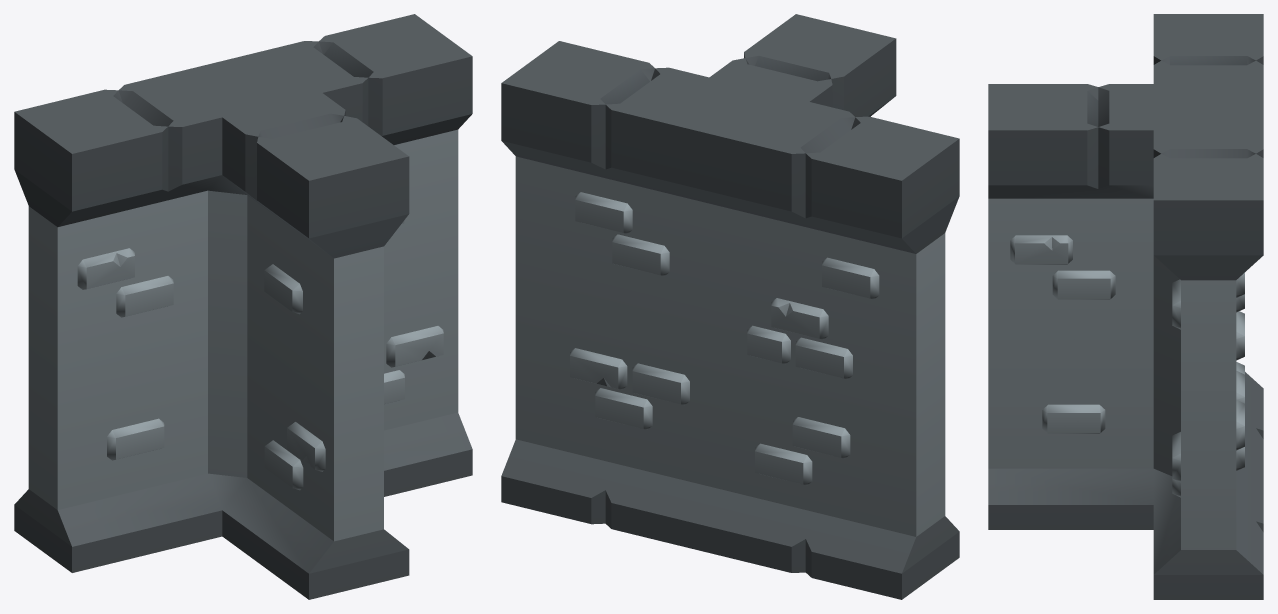
Rendered from wall_tsplit.gltf.
The picture shows the model from 3 angles, left to right: view 1: azimuth 30°, elevation 25°; view 2: azimuth 150°, elevation 25°; view 3: azimuth 270°, elevation 25°; orthographic projection. The views are drawn at different scales.
Visible parts, largest first — view 1: wall_Tsplit; view 2: wall_Tsplit; view 3: wall_Tsplit.
Boxes of the visible parts, bbox=[...] form: wall_Tsplit: bbox=[14, 14, 472, 599]; wall_Tsplit: bbox=[501, 14, 959, 599]; wall_Tsplit: bbox=[988, 14, 1263, 599].
Bounding box in the file's own units: 4 × 4 × 2.5.
Materials: 1 (1 with a texture image).
